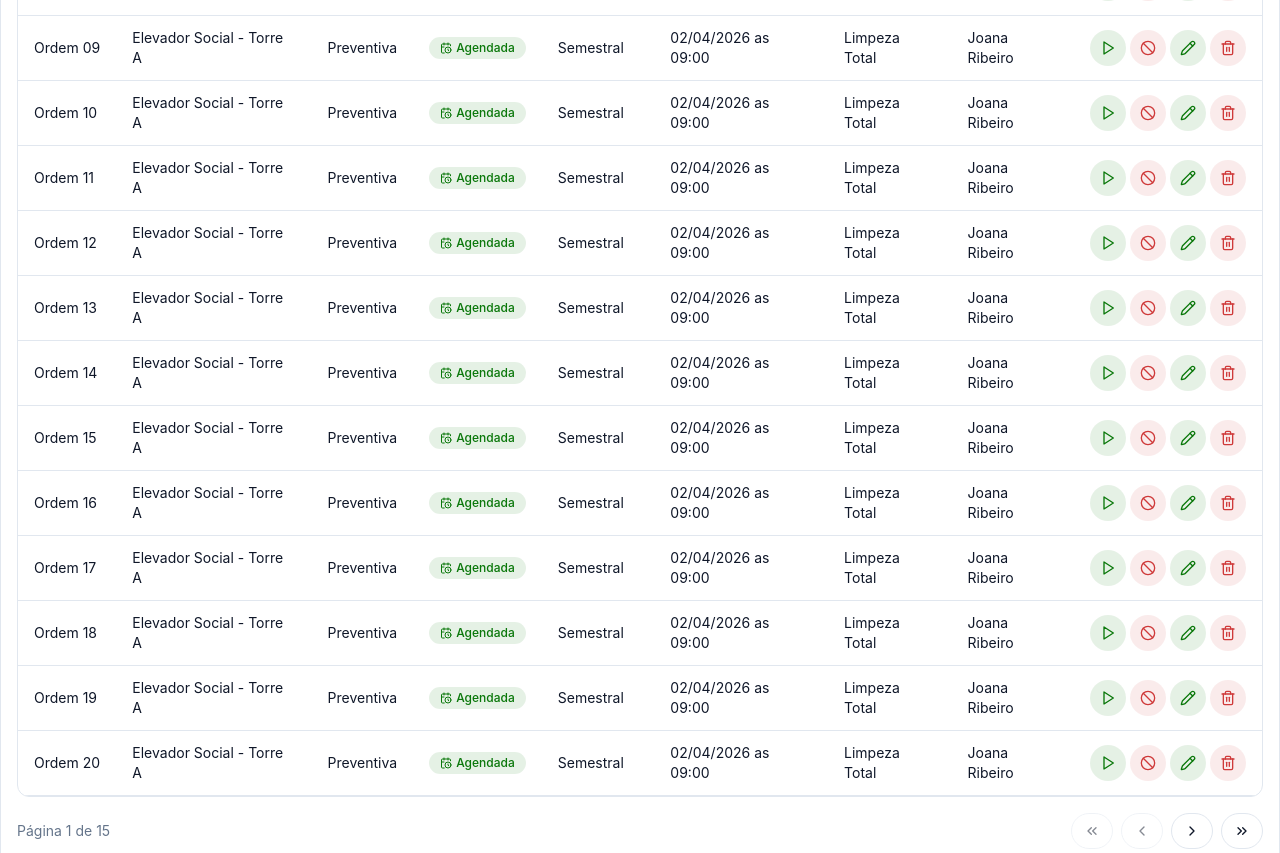
Scenario: Listagem de manutenções › trezentas ordens paginam no tamanho pedido
This screenshot has width=1280, height=853.
(page scrolled)
Click the button named "Próxima página": (1192, 831) [1171, 813, 1213, 849]
(page scrolled)
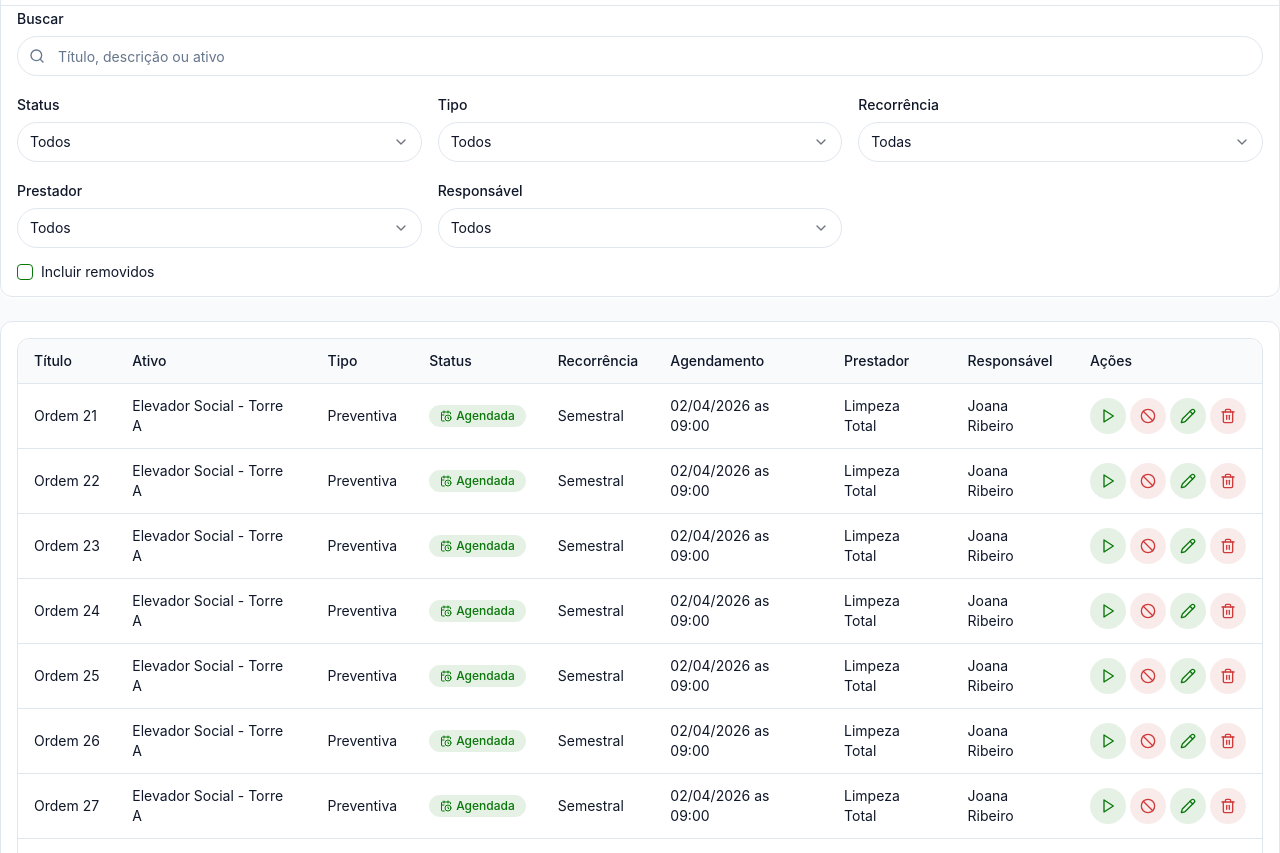
Result: the text "Ordem 21" is shown at [34, 406, 97, 426]
